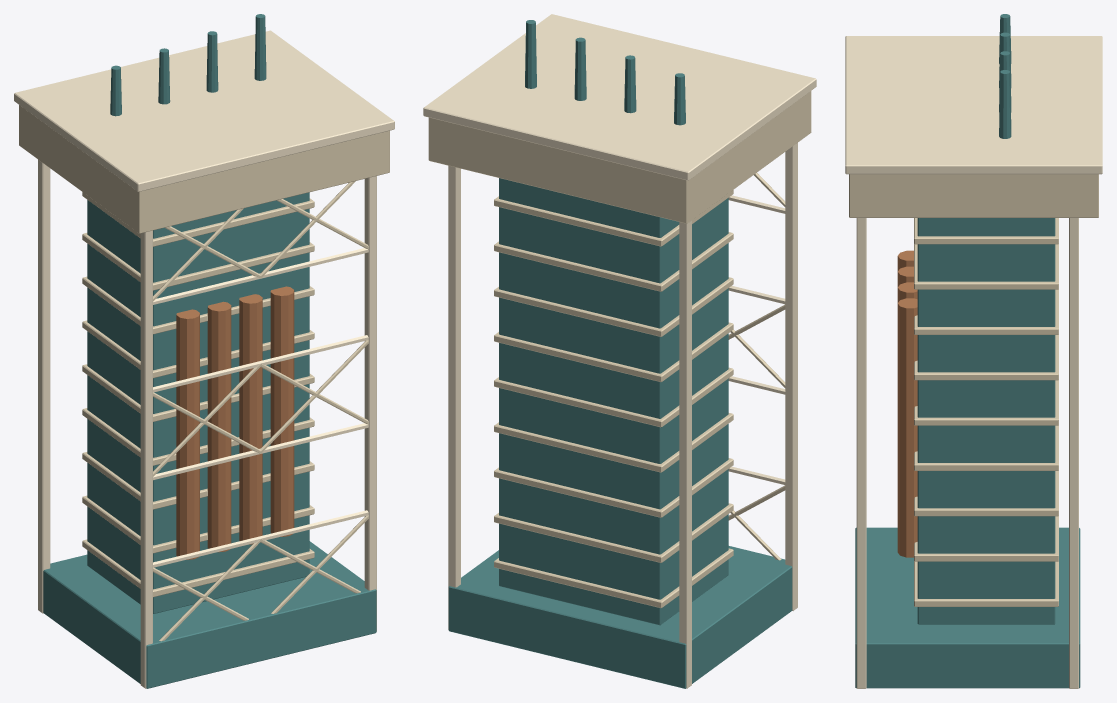
File: hsc3_power_boiler.glb
3 renders of one model, left to right at view 1: azimuth 30°, elevation 25°; view 2: azimuth 150°, elevation 25°; view 3: azimuth 270°, elevation 25°, orthographic. The views are drawn at different scales.
Parts seen in each view (by area): view 1: hsc3_power_boiler__hsc3-deep-teal, hsc3_power_boiler__hsc3-pale-trim, hsc3_power_boiler__hsc3-cream-enamel, hsc3_power_boiler__hsc3-roasted-copper; view 2: hsc3_power_boiler__hsc3-deep-teal, hsc3_power_boiler__hsc3-pale-trim, hsc3_power_boiler__hsc3-cream-enamel; view 3: hsc3_power_boiler__hsc3-deep-teal, hsc3_power_boiler__hsc3-pale-trim, hsc3_power_boiler__hsc3-cream-enamel, hsc3_power_boiler__hsc3-roasted-copper.
Part boxes in pixels (x1=…): hsc3_power_boiler__hsc3-deep-teal: x1=43, y1=14, x2=376, y2=688; hsc3_power_boiler__hsc3-pale-trim: x1=14, y1=30, x2=394, y2=688; hsc3_power_boiler__hsc3-cream-enamel: x1=19, y1=105, x2=389, y2=641; hsc3_power_boiler__hsc3-roasted-copper: x1=176, y1=286, x2=294, y2=559; hsc3_power_boiler__hsc3-deep-teal: x1=448, y1=20, x2=792, y2=688; hsc3_power_boiler__hsc3-pale-trim: x1=423, y1=14, x2=816, y2=688; hsc3_power_boiler__hsc3-cream-enamel: x1=428, y1=91, x2=811, y2=608; hsc3_power_boiler__hsc3-deep-teal: x1=855, y1=14, x2=1080, y2=688; hsc3_power_boiler__hsc3-pale-trim: x1=845, y1=36, x2=1102, y2=688; hsc3_power_boiler__hsc3-cream-enamel: x1=849, y1=174, x2=1098, y2=606; hsc3_power_boiler__hsc3-roasted-copper: x1=897, y1=250, x2=917, y2=557.
Size of the model in its own units: 24.6 by 52.5 by 20.6.
